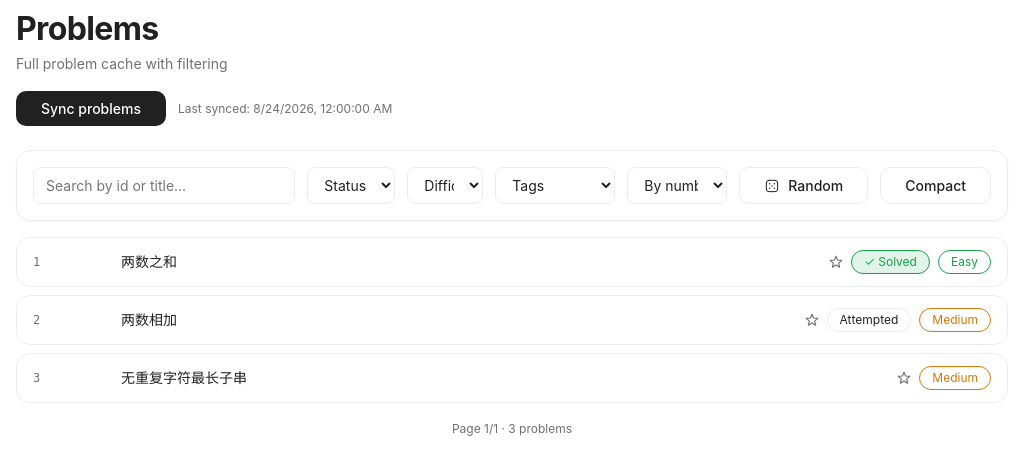
Test: Problems view › toggling a favorite updates the card immediately and persists via API
This screenshot has width=1025, height=453.
Step 1. Click the button with test id "fav-toggle" next to "✓ Solved" → (836, 262), box [829,255,843,269]
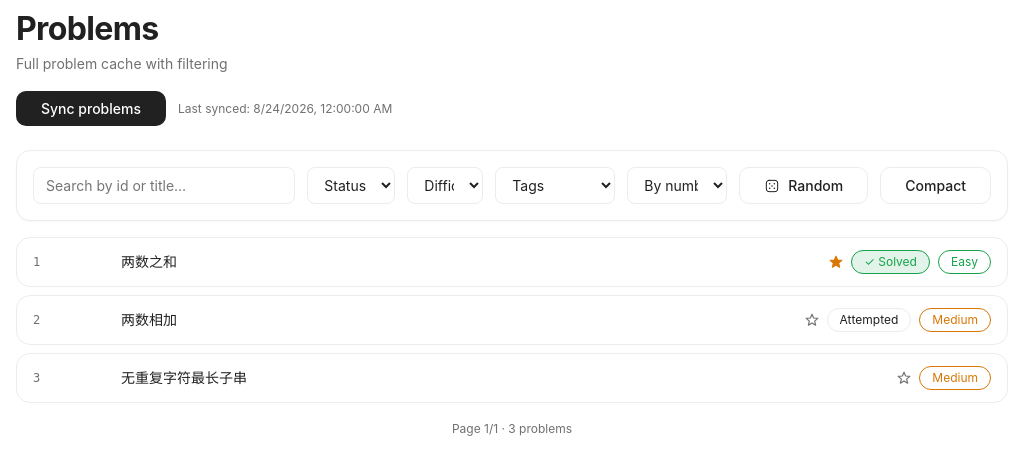
// the favorite filter now matches that row
Step 2. Select "Favorites" in the dropdown with test id "status-select" → (351, 186), box [307,167,395,204]
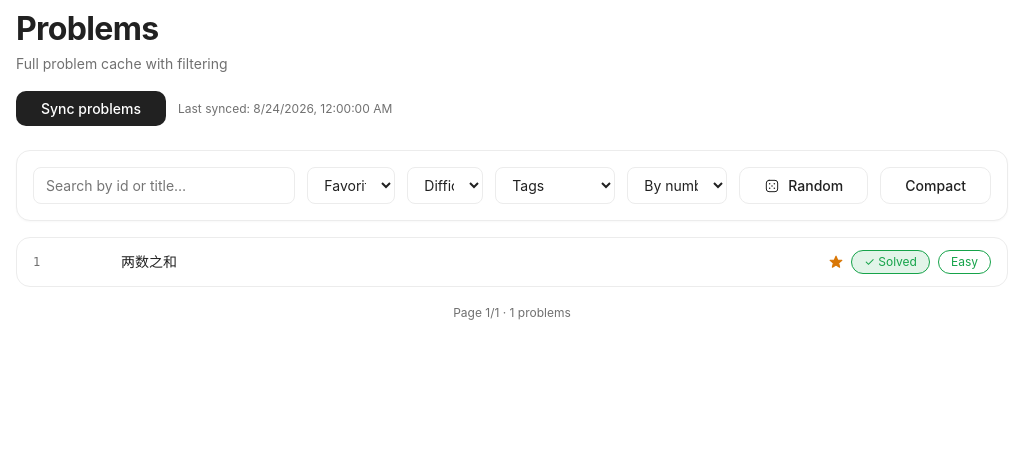
Now the number of links with test id "problem-card" is 1, box [16,237,1008,287]
